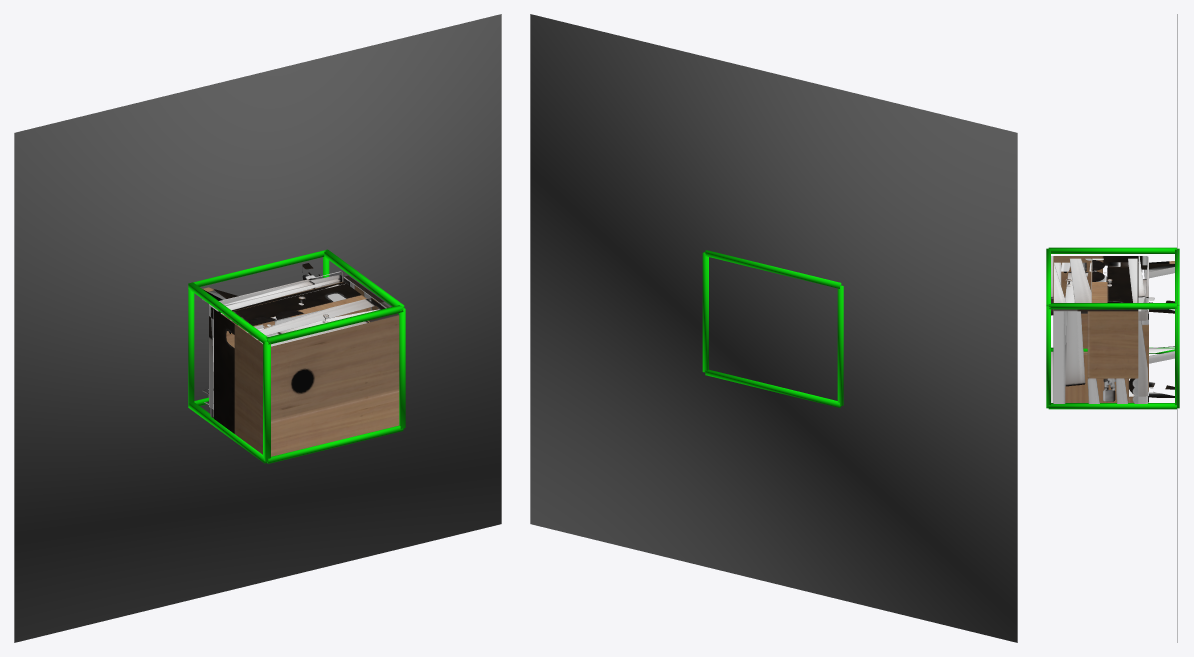
The picture shows the model from 3 angles, left to right: view 1: azimuth 30°, elevation 25°; view 2: azimuth 150°, elevation 25°; view 3: azimuth 270°, elevation 25°; orthographic projection. The views are drawn at different scales.
Size of the model in its own units: 2 by 2 by 0.5631.
